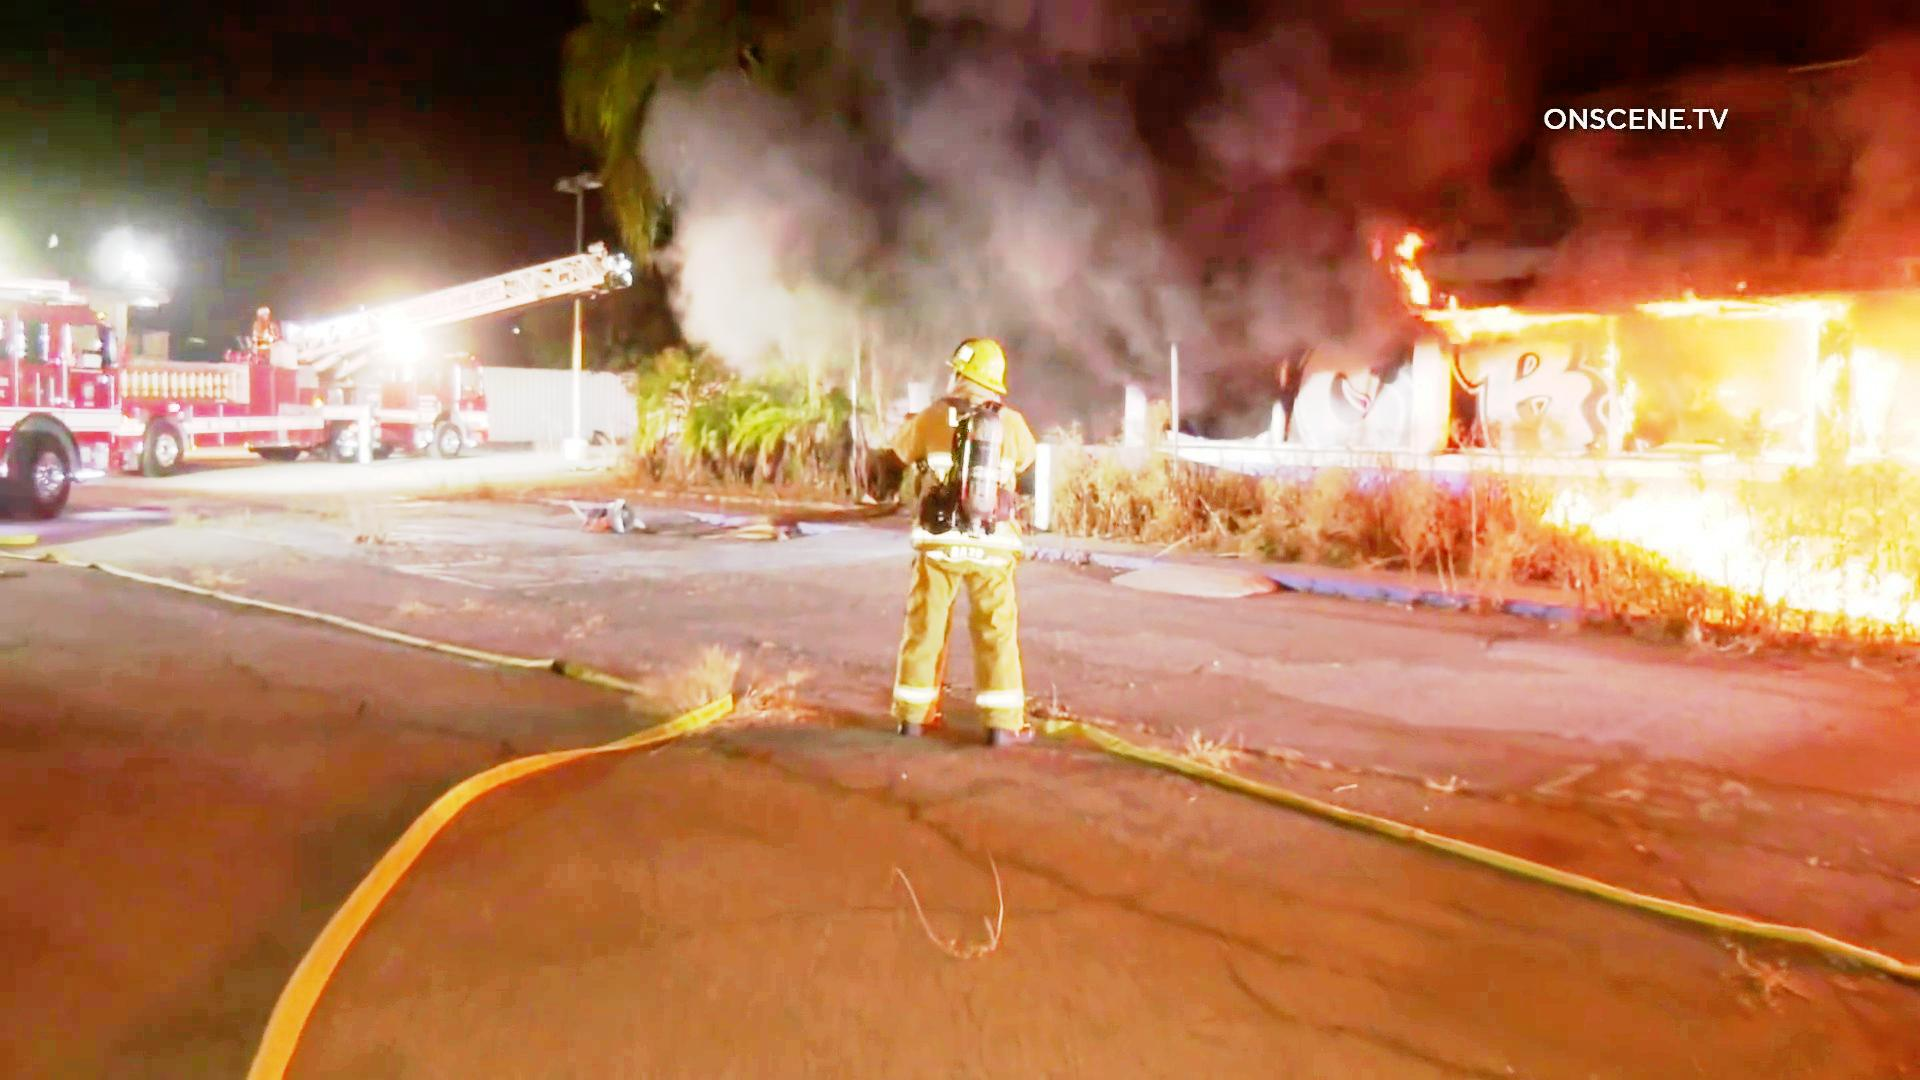fire: (1556, 443, 1920, 626), (1655, 313, 1920, 451)
smoke: (695, 33, 1371, 335), (1590, 153, 1919, 270)
